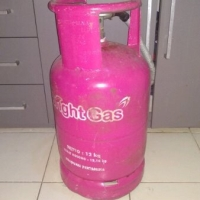bright_gas: (47, 1, 152, 200)
